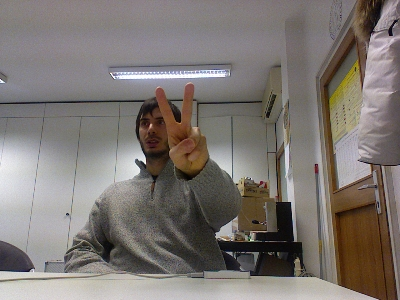剪刀: (153, 81, 210, 174)
